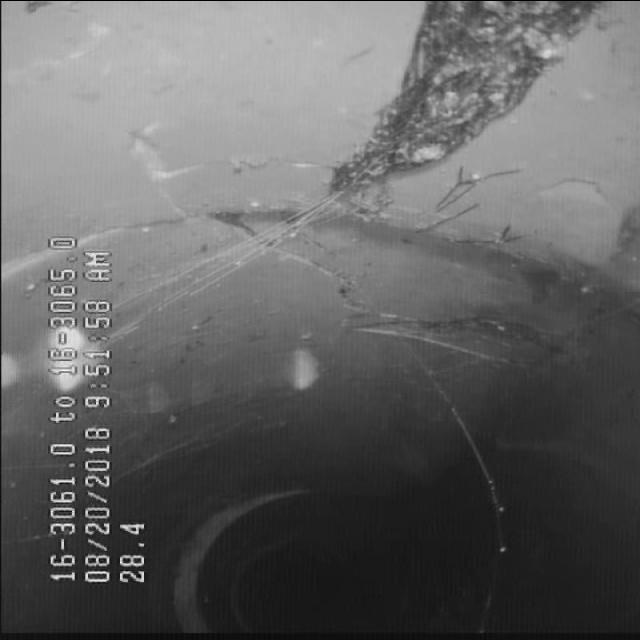Fracture: (160, 200, 510, 358)
